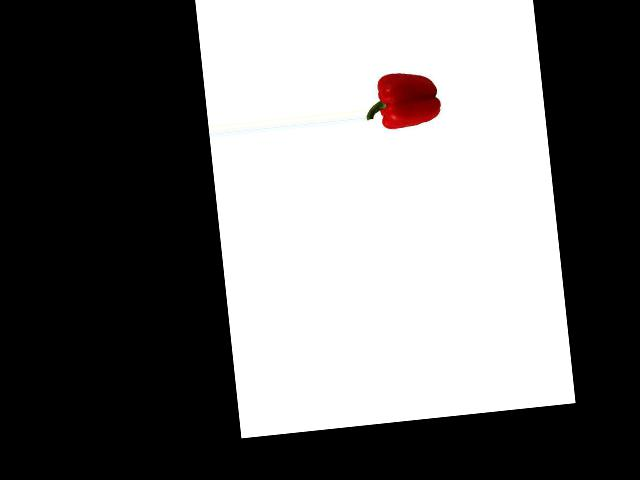bell_pepper: (362, 61, 443, 134)
